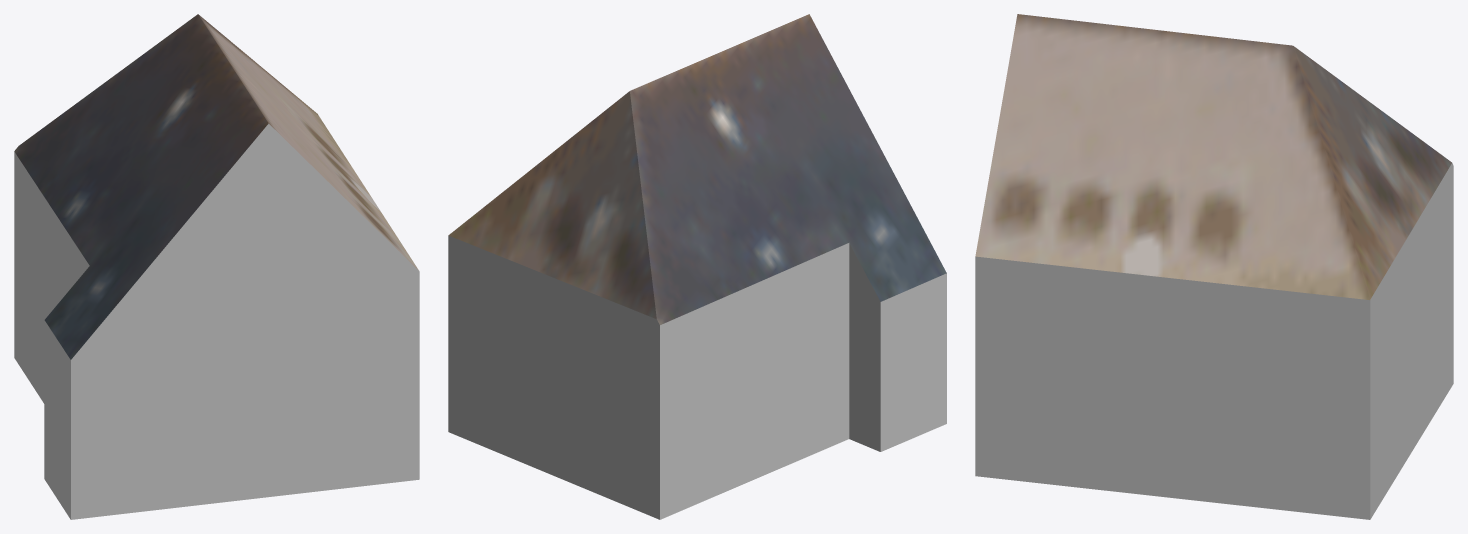
Rendered from DEBW_0010007TxcN.gltf.
3 renders of one model, left to right at view 1: azimuth 30°, elevation 25°; view 2: azimuth 150°, elevation 25°; view 3: azimuth 270°, elevation 25°, orthographic. The views are drawn at different scales.
Parts seen in each view (by area): view 1: Z_UP; view 2: Z_UP; view 3: Z_UP.
Part boxes in pixels (bbox=[...]): Z_UP: bbox=[14, 14, 419, 519]; Z_UP: bbox=[448, 14, 946, 519]; Z_UP: bbox=[975, 14, 1453, 519].
Bounding box in the file's own units: 15.39 × 14.17 × 15.56.
Materials: 2 (1 with a texture image).
